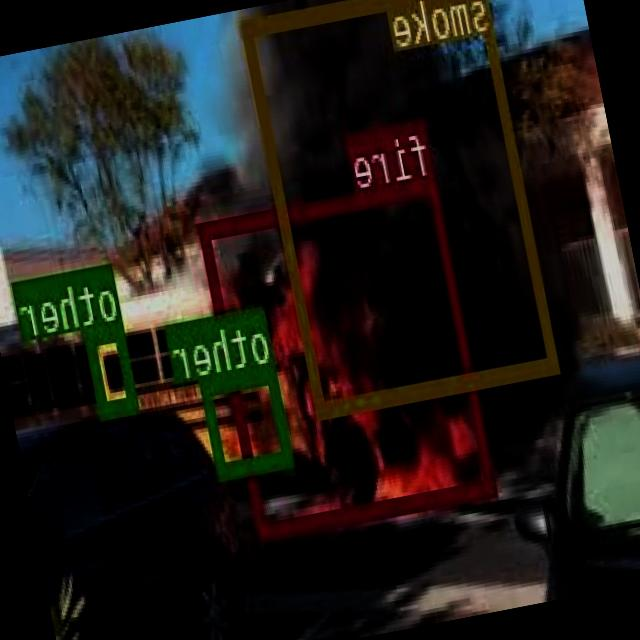fire: (200, 174, 498, 538)
smoke: (243, 0, 561, 415)
